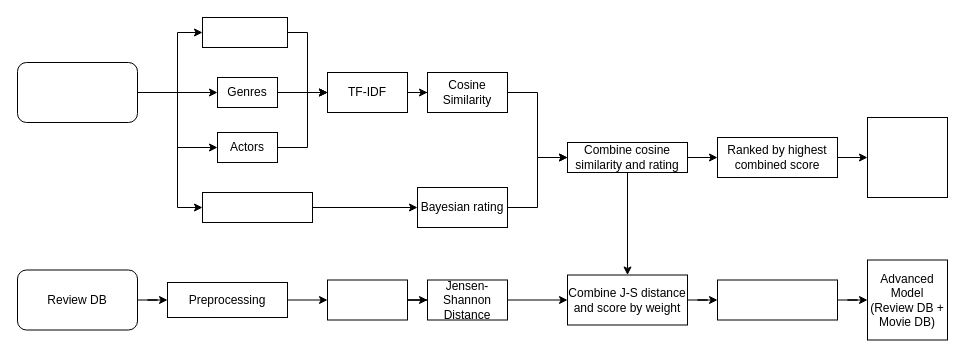
Image size: 965x358. Some labels were removed from this diagram. Here are the shapes that lost their labels. From the top down, the centre of each, then its label:
At (x=245, y=32): "Description".
At (x=77, y=92): "Movie DB".
At (x=907, y=157): "Baseline model (Movie DB only)".
At (x=257, y=207): "Audience Rating".
At (x=367, y=299): "LDA".
At (x=777, y=299): "Ranked by highest weighted score".
